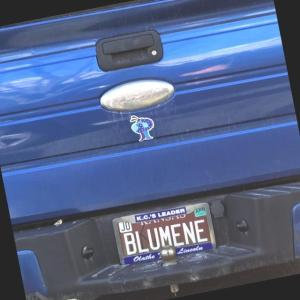Plate: (112, 202, 217, 266)
